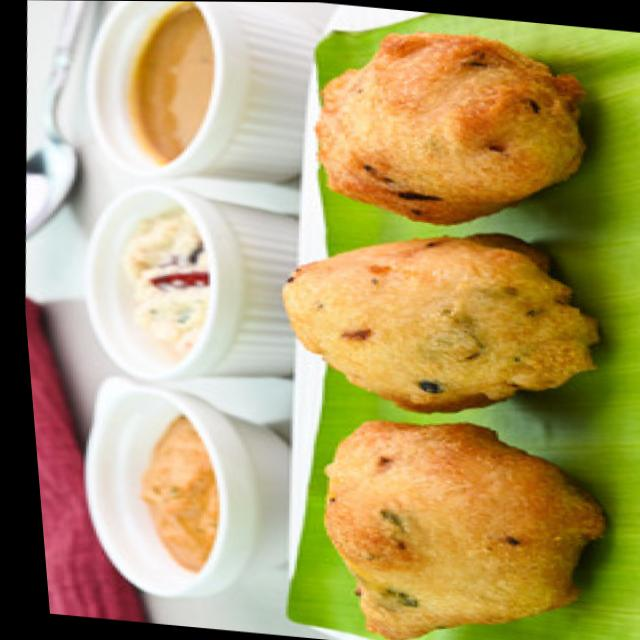BONDA: (323, 418, 602, 637), (285, 231, 595, 410), (318, 33, 580, 223)
RED CHUTNEY: (139, 414, 217, 570)
SAMBAR: (131, 1, 211, 161)
WHITE CHUTNEY: (122, 205, 207, 360)
